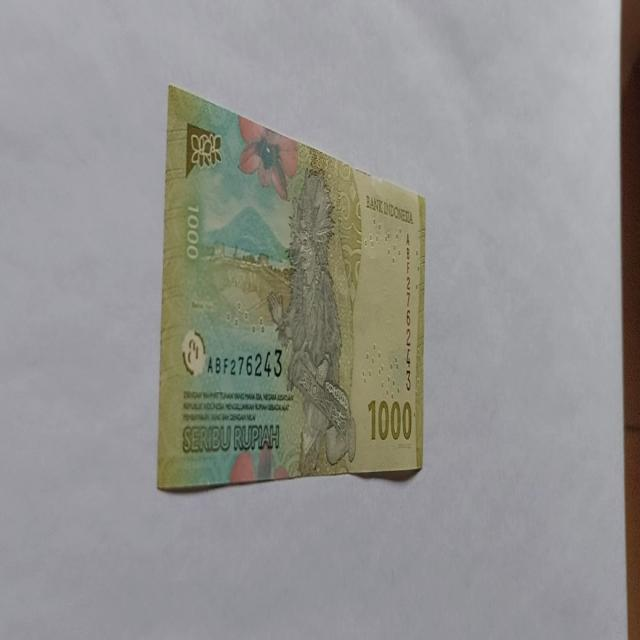seribu rupiah kertas: (156, 82, 427, 492)
